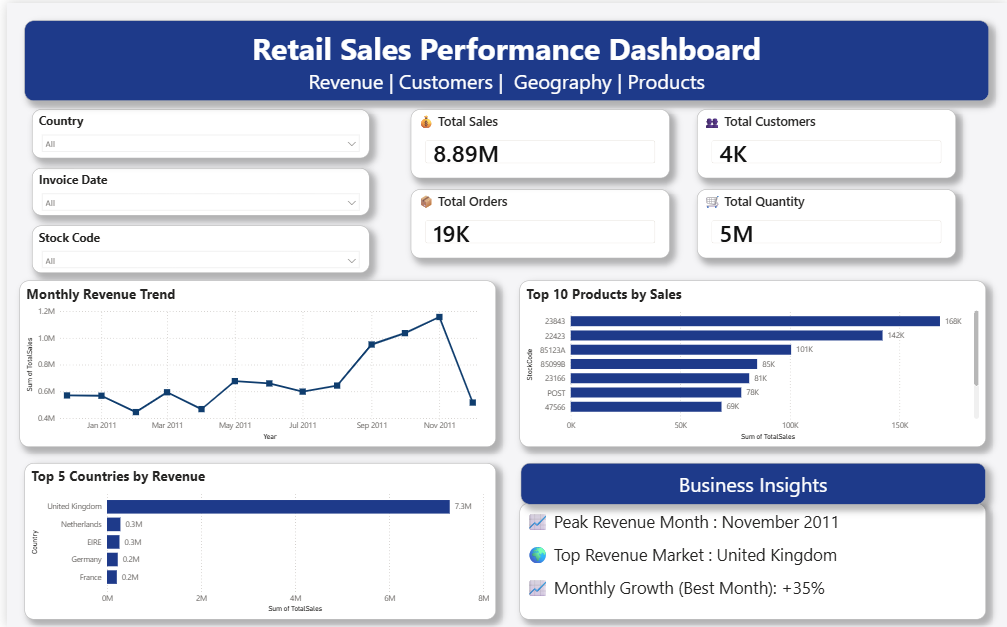

The dashboard page shown, as its layout file describes it:
{"tool":"powerbi","page":{"name":"Page 1","canvas":[1600,1000],"ordinal":0},"visuals":[{"type":"slicer","title":"Invoice Date","fields":{"Values":["cleaned_online_retail.InvoiceDate"]},"box":[40,264,540,76],"z":0},{"type":"slicer","title":"Country","fields":{"Values":["cleaned_online_retail.Country"]},"box":[40,170,540,78],"z":1000},{"type":"slicer","title":"Stock Code","fields":{"Values":["cleaned_online_retail.StockCode"]},"box":[40,356,540,76],"z":2000},{"type":"lineChart","title":"Monthly Revenue Trend","fields":{"Y":["Sum(cleaned_online_retail.TotalSales)"],"Category":["cleaned_online_retail.InvoiceDate.Variation.Date Hierarchy.Year","cleaned_online_retail.InvoiceDate.Variation.Date Hierarchy.Quarter","cleaned_online_retail.InvoiceDate.Variation.Date Hierarchy.Month"]},"box":[20,444,762,266],"z":3000},{"type":"clusteredBarChart","title":"Top 10 Products by Sales","fields":{"Category":["cleaned_online_retail.StockCode"],"Y":["Sum(cleaned_online_retail.TotalSales)"]},"box":[820,444,746,266],"z":4000},{"type":"clusteredBarChart","title":"Top 5 Countries by Revenue","fields":{"Category":["cleaned_online_retail.Country"],"Y":["Sum(cleaned_online_retail.TotalSales)"]},"box":[28,736,754,250],"z":5000},{"type":"textbox","box":[28.5,28.5,1543.2,129],"z":6000},{"type":"textbox","box":[820,800,746,186],"z":7000},{"type":"textbox","box":[822,736,744,66],"z":8000},{"type":"cardVisual","title":"👥 Total Customers","fields":{"Data":["cleaned_online_retail.Total Customers"]},"box":[1104,170,414,110],"z":9000},{"type":"cardVisual","title":"🛒 Total Quantity","fields":{"Data":["Sum(cleaned_online_retail.Quantity)"]},"box":[1104,298,414,110],"z":10000},{"type":"cardVisual","title":"📦 Total Orders","fields":{"Data":["cleaned_online_retail.Total Orders"]},"box":[646,298,414,110],"z":11000},{"type":"cardVisual","title":"💰 Total Sales","fields":{"Data":["Sum(cleaned_online_retail.TotalSales)"]},"box":[646,170,414,110],"z":12000}]}

Visuals, with their boxes in screenshot pixels (x1, y1, x2, y2), scaled from the page's 1600x1000 canvas onto the 1007x627 screenshot:
"Invoice Date" slicer: select_region(25, 166, 365, 213)
"Country" slicer: select_region(25, 107, 365, 155)
"Stock Code" slicer: select_region(25, 223, 365, 271)
"Monthly Revenue Trend" lineChart: select_region(13, 278, 492, 445)
"Top 10 Products by Sales" clusteredBarChart: select_region(516, 278, 986, 445)
"Top 5 Countries by Revenue" clusteredBarChart: select_region(18, 461, 492, 618)
textbox: select_region(18, 18, 989, 99)
textbox: select_region(516, 502, 986, 618)
textbox: select_region(517, 461, 986, 503)
"👥 Total Customers" cardVisual: select_region(695, 107, 955, 176)
"🛒 Total Quantity" cardVisual: select_region(695, 187, 955, 256)
"📦 Total Orders" cardVisual: select_region(407, 187, 667, 256)
"💰 Total Sales" cardVisual: select_region(407, 107, 667, 176)
